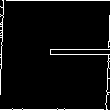L_W: (1, 39, 109, 71)
